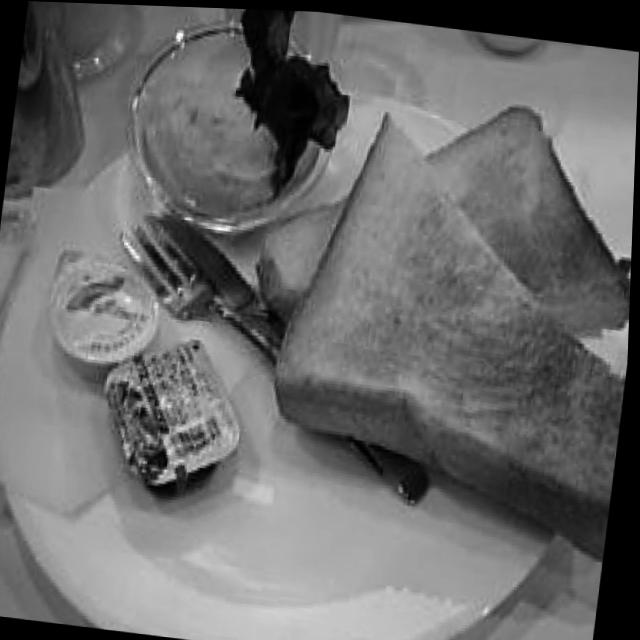面包点心: (237, 65, 638, 595)
